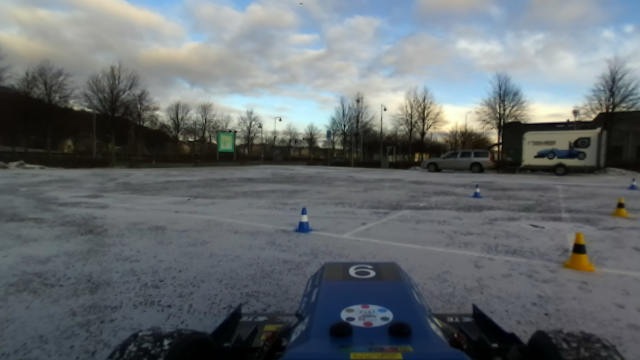blue: (292, 205, 314, 232), (471, 183, 483, 200), (627, 176, 638, 191)
yellow: (561, 228, 594, 274), (611, 194, 631, 217)
